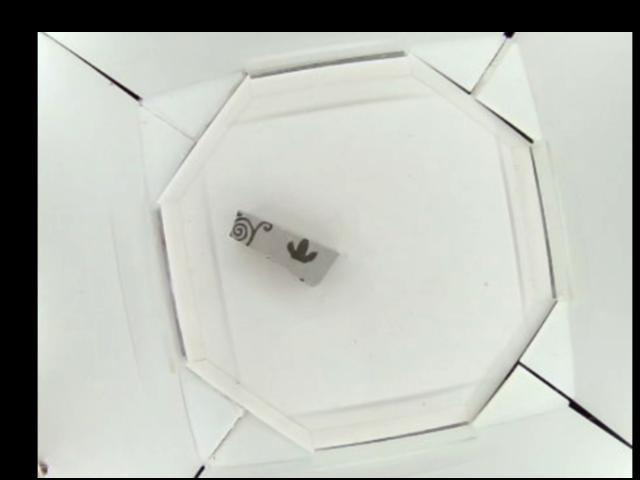China: (229, 208, 340, 285)
